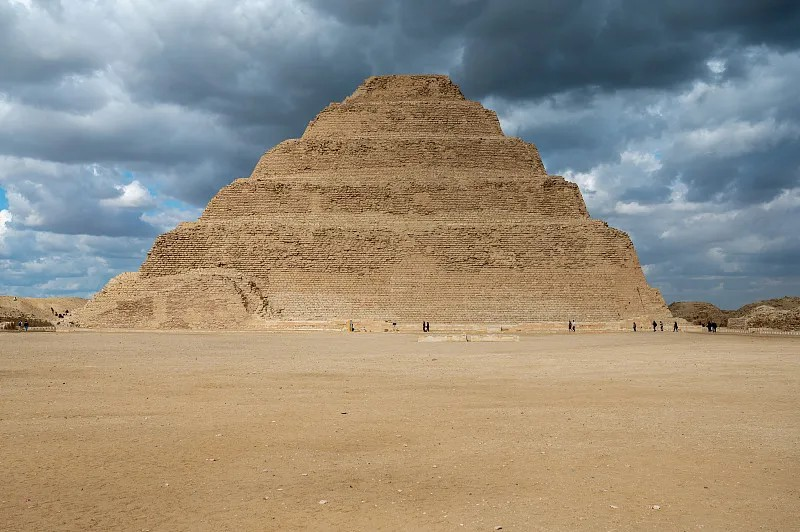Pyramid: (54, 76, 673, 320)
